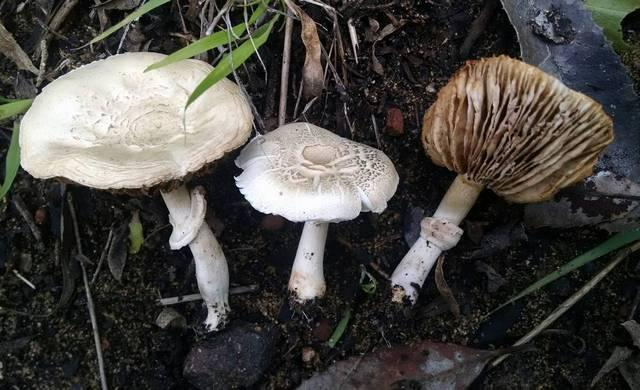poisonous_mushroom: (17, 49, 254, 333), (388, 53, 614, 309), (232, 120, 400, 304)
